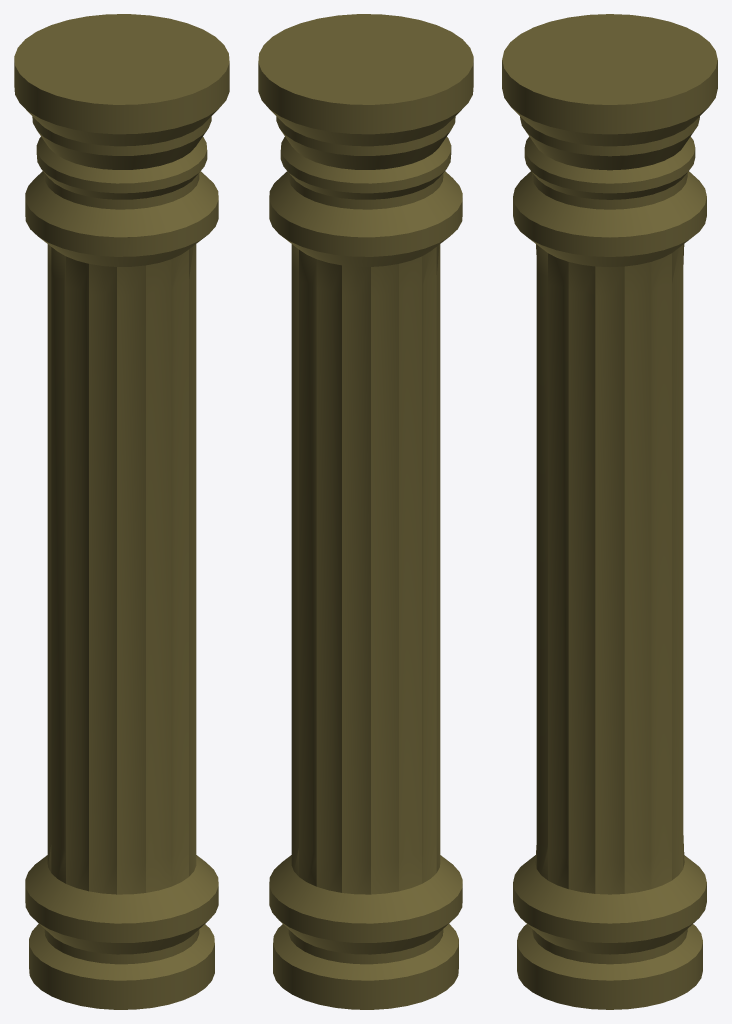
File: column.fbx
3 views of the same model, side by side, from view 1: azimuth 30°, elevation 25°; view 2: azimuth 150°, elevation 25°; view 3: azimuth 270°, elevation 25° (orthographic).
Parts seen in each view (by area): view 1: Column; view 2: Column; view 3: Column.
Boxes of the visible parts, x1,y1,x2,y2 form: Column: (14, 14, 229, 1009); Column: (258, 14, 473, 1009); Column: (502, 14, 717, 1009).
Bounding box in the file's own units: 171 × 796 × 171.
